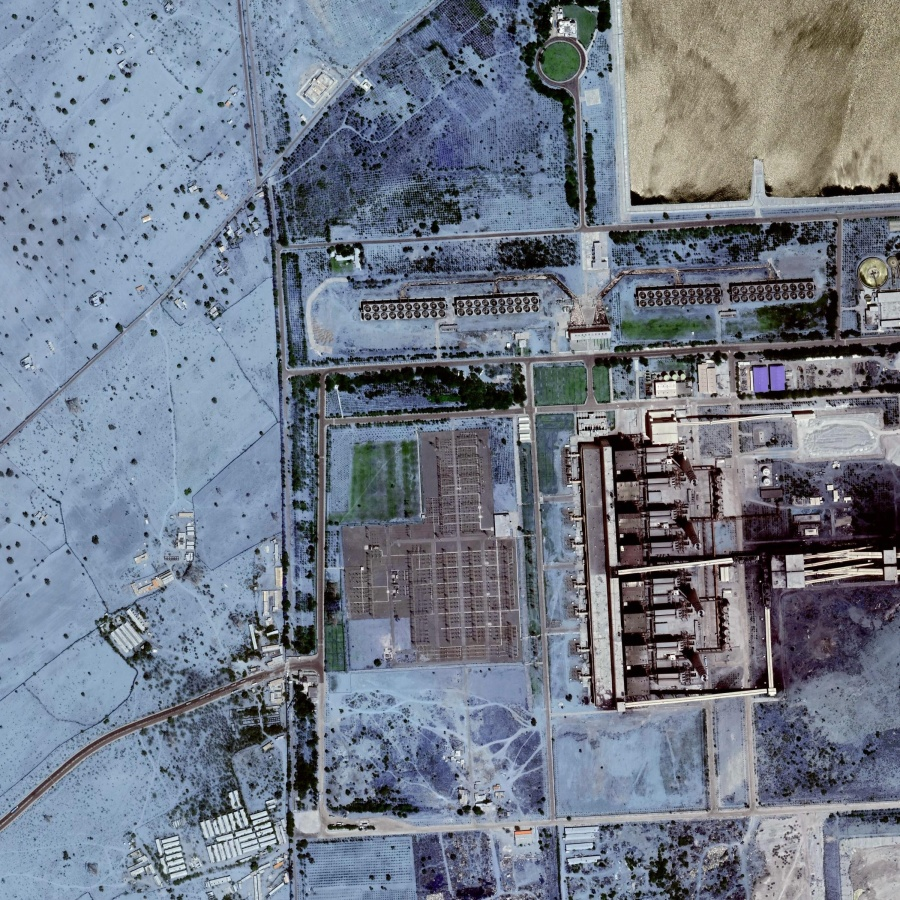PowerPlant: (573, 414, 772, 699)
